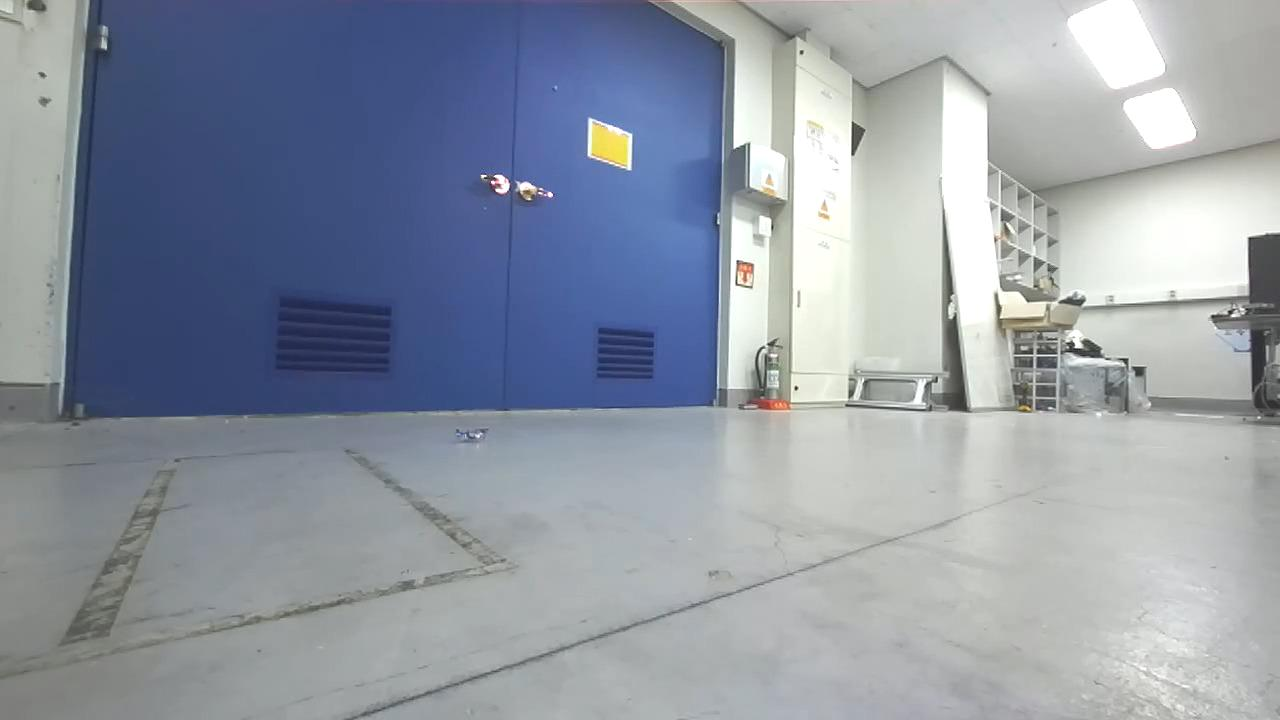crazyflie: (450, 422, 491, 447)
